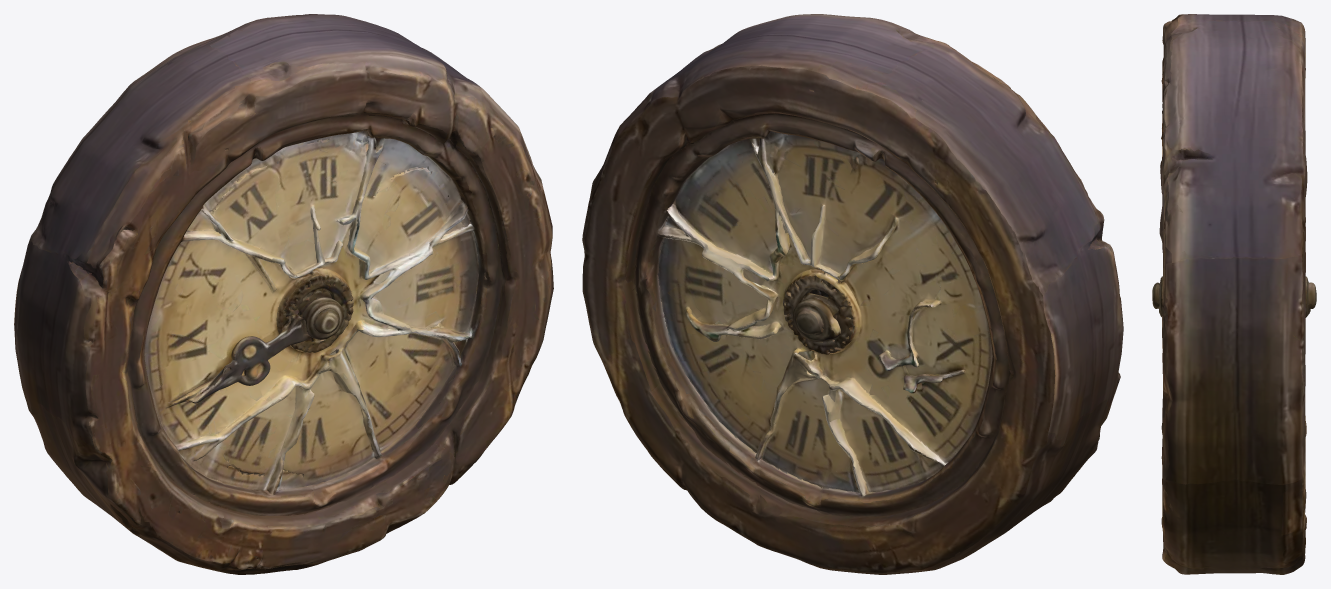
File: clock-broken.glb
3 renders of one model, left to right at view 1: azimuth 30°, elevation 25°; view 2: azimuth 150°, elevation 25°; view 3: azimuth 270°, elevation 25°, orthographic.
Visible parts, largest first — view 1: geometry_0; view 2: geometry_0; view 3: geometry_0.
Boxes of the visible parts, box(x1,y1,x2,y2) form: geometry_0: box(14, 14, 553, 574); geometry_0: box(582, 14, 1123, 574); geometry_0: box(1152, 14, 1316, 574).
Bounding box in the file's own units: 0.45 × 0.4499 × 0.1334.
Materials: 1 (1 with a texture image).
